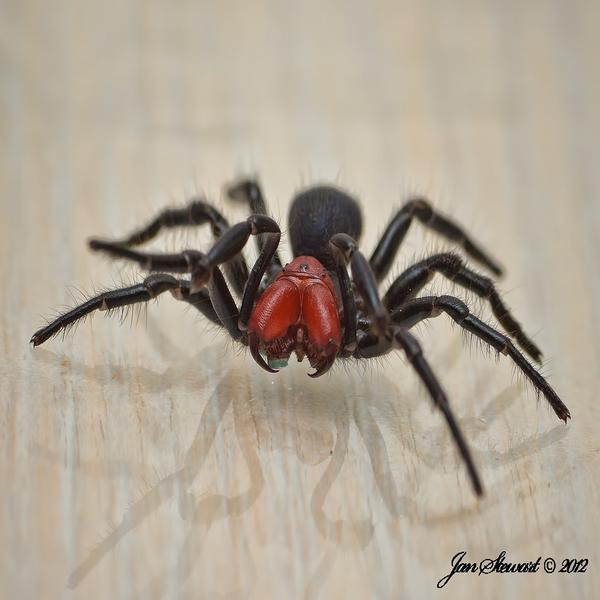Red Headed Mouse Spider: (37, 182, 566, 486)
